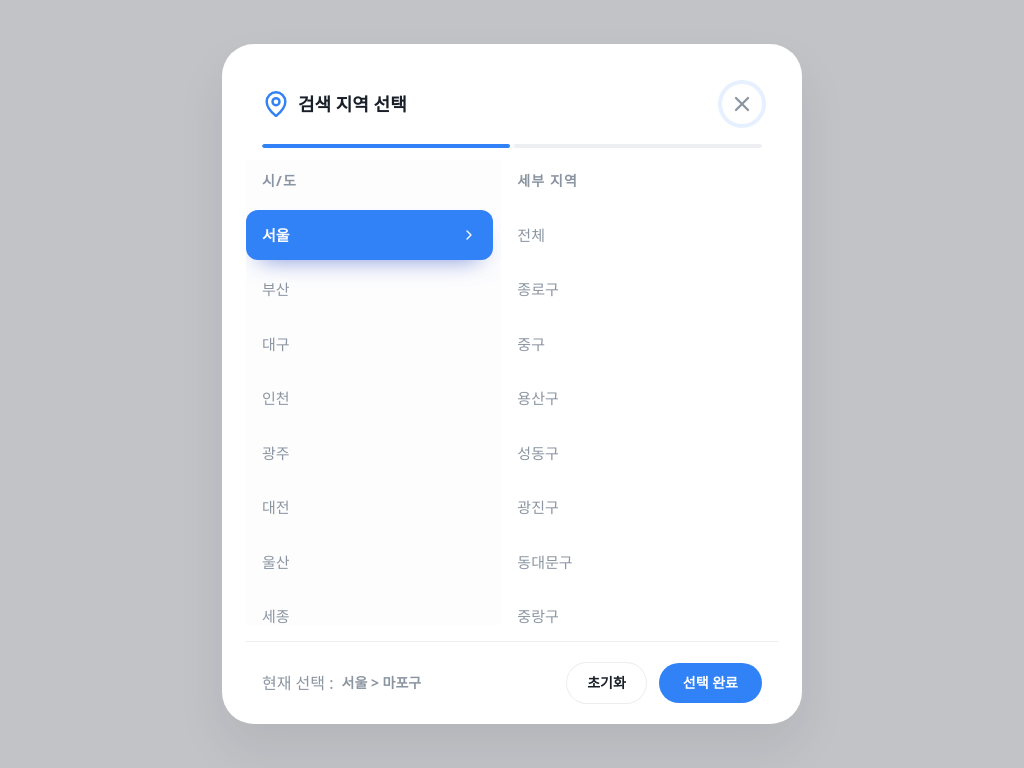
Test: RegionSelectDialog › 확정하지 않고 닫았다가 다시 열면 마지막 확정 선택으로 다시 시작한다
This screenshot has width=1024, height=768.
Click the button "부산". click: x=370, y=290
box: [246, 264, 493, 315]
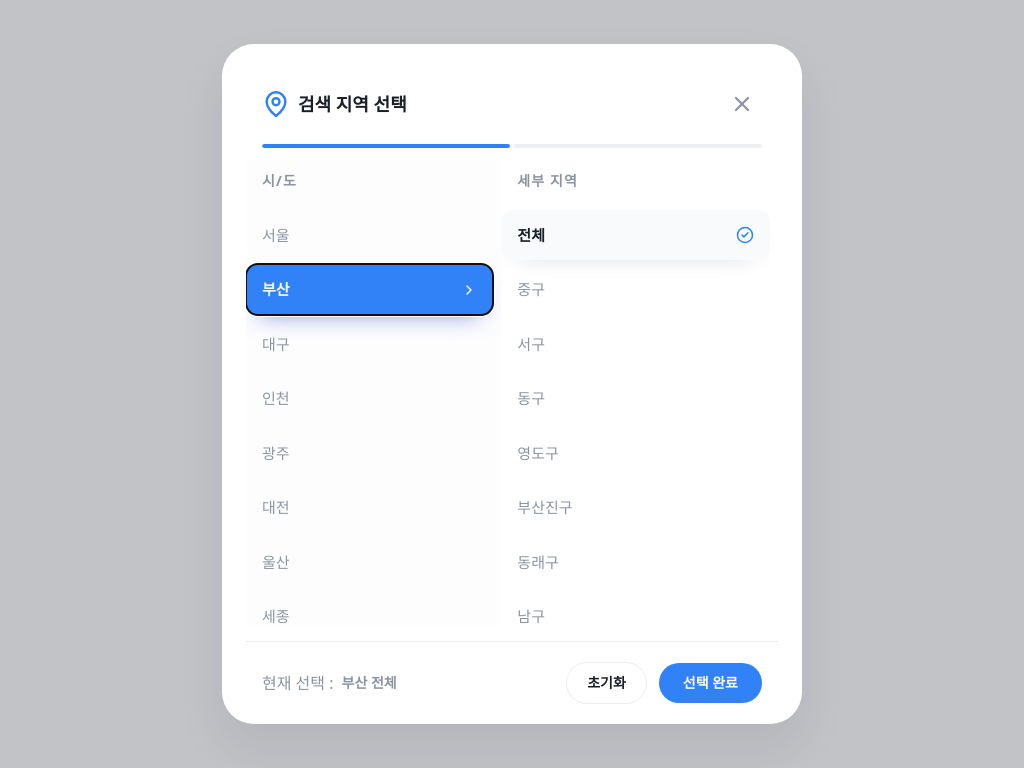
Click the button named "닫기". click: x=742, y=104
box: [722, 84, 762, 124]
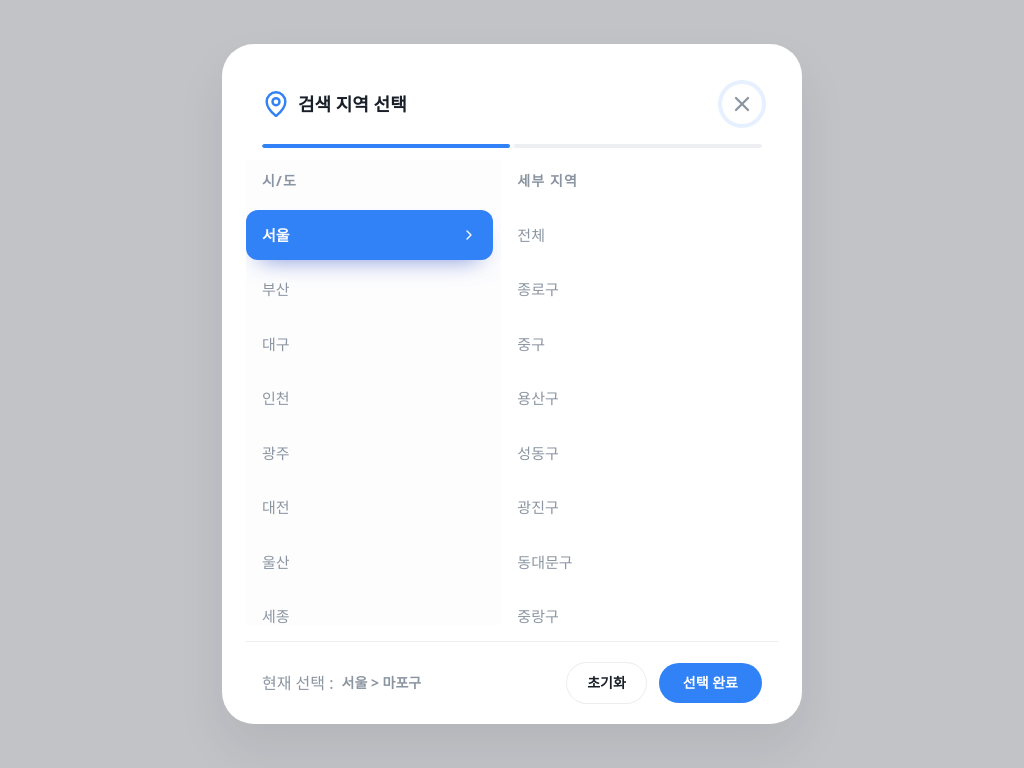
Result: the text "서울 > 마포구" is shown at [342, 673, 421, 693]
